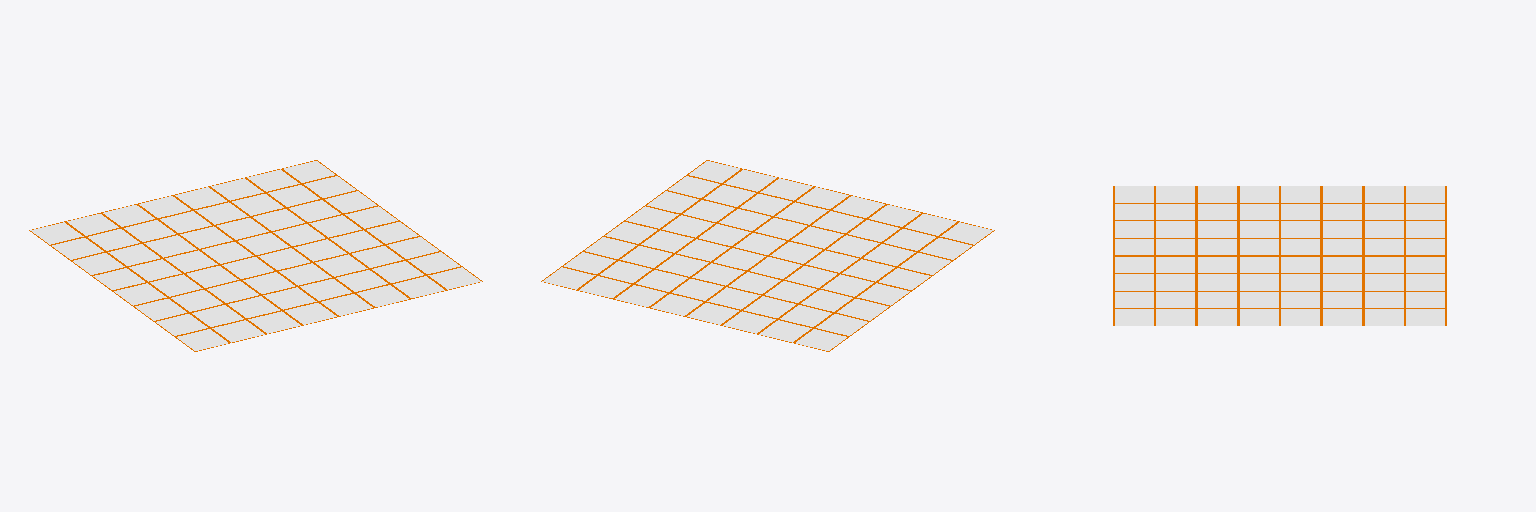
3 views of the same model, side by side, from view 1: azimuth 30°, elevation 25°; view 2: azimuth 150°, elevation 25°; view 3: azimuth 270°, elevation 25° (orthographic).
Visible parts, largest first — view 1: Cube; view 2: Cube; view 3: Cube.
Boxes of the visible parts, x1=… form: Cube: x1=29, y1=160, x2=482, y2=351; Cube: x1=541, y1=160, x2=994, y2=351; Cube: x1=1113, y1=186, x2=1446, y2=325.
Bounding box in the file's own units: 8 × 0 × 8.
Materials: 1 (1 with a texture image).